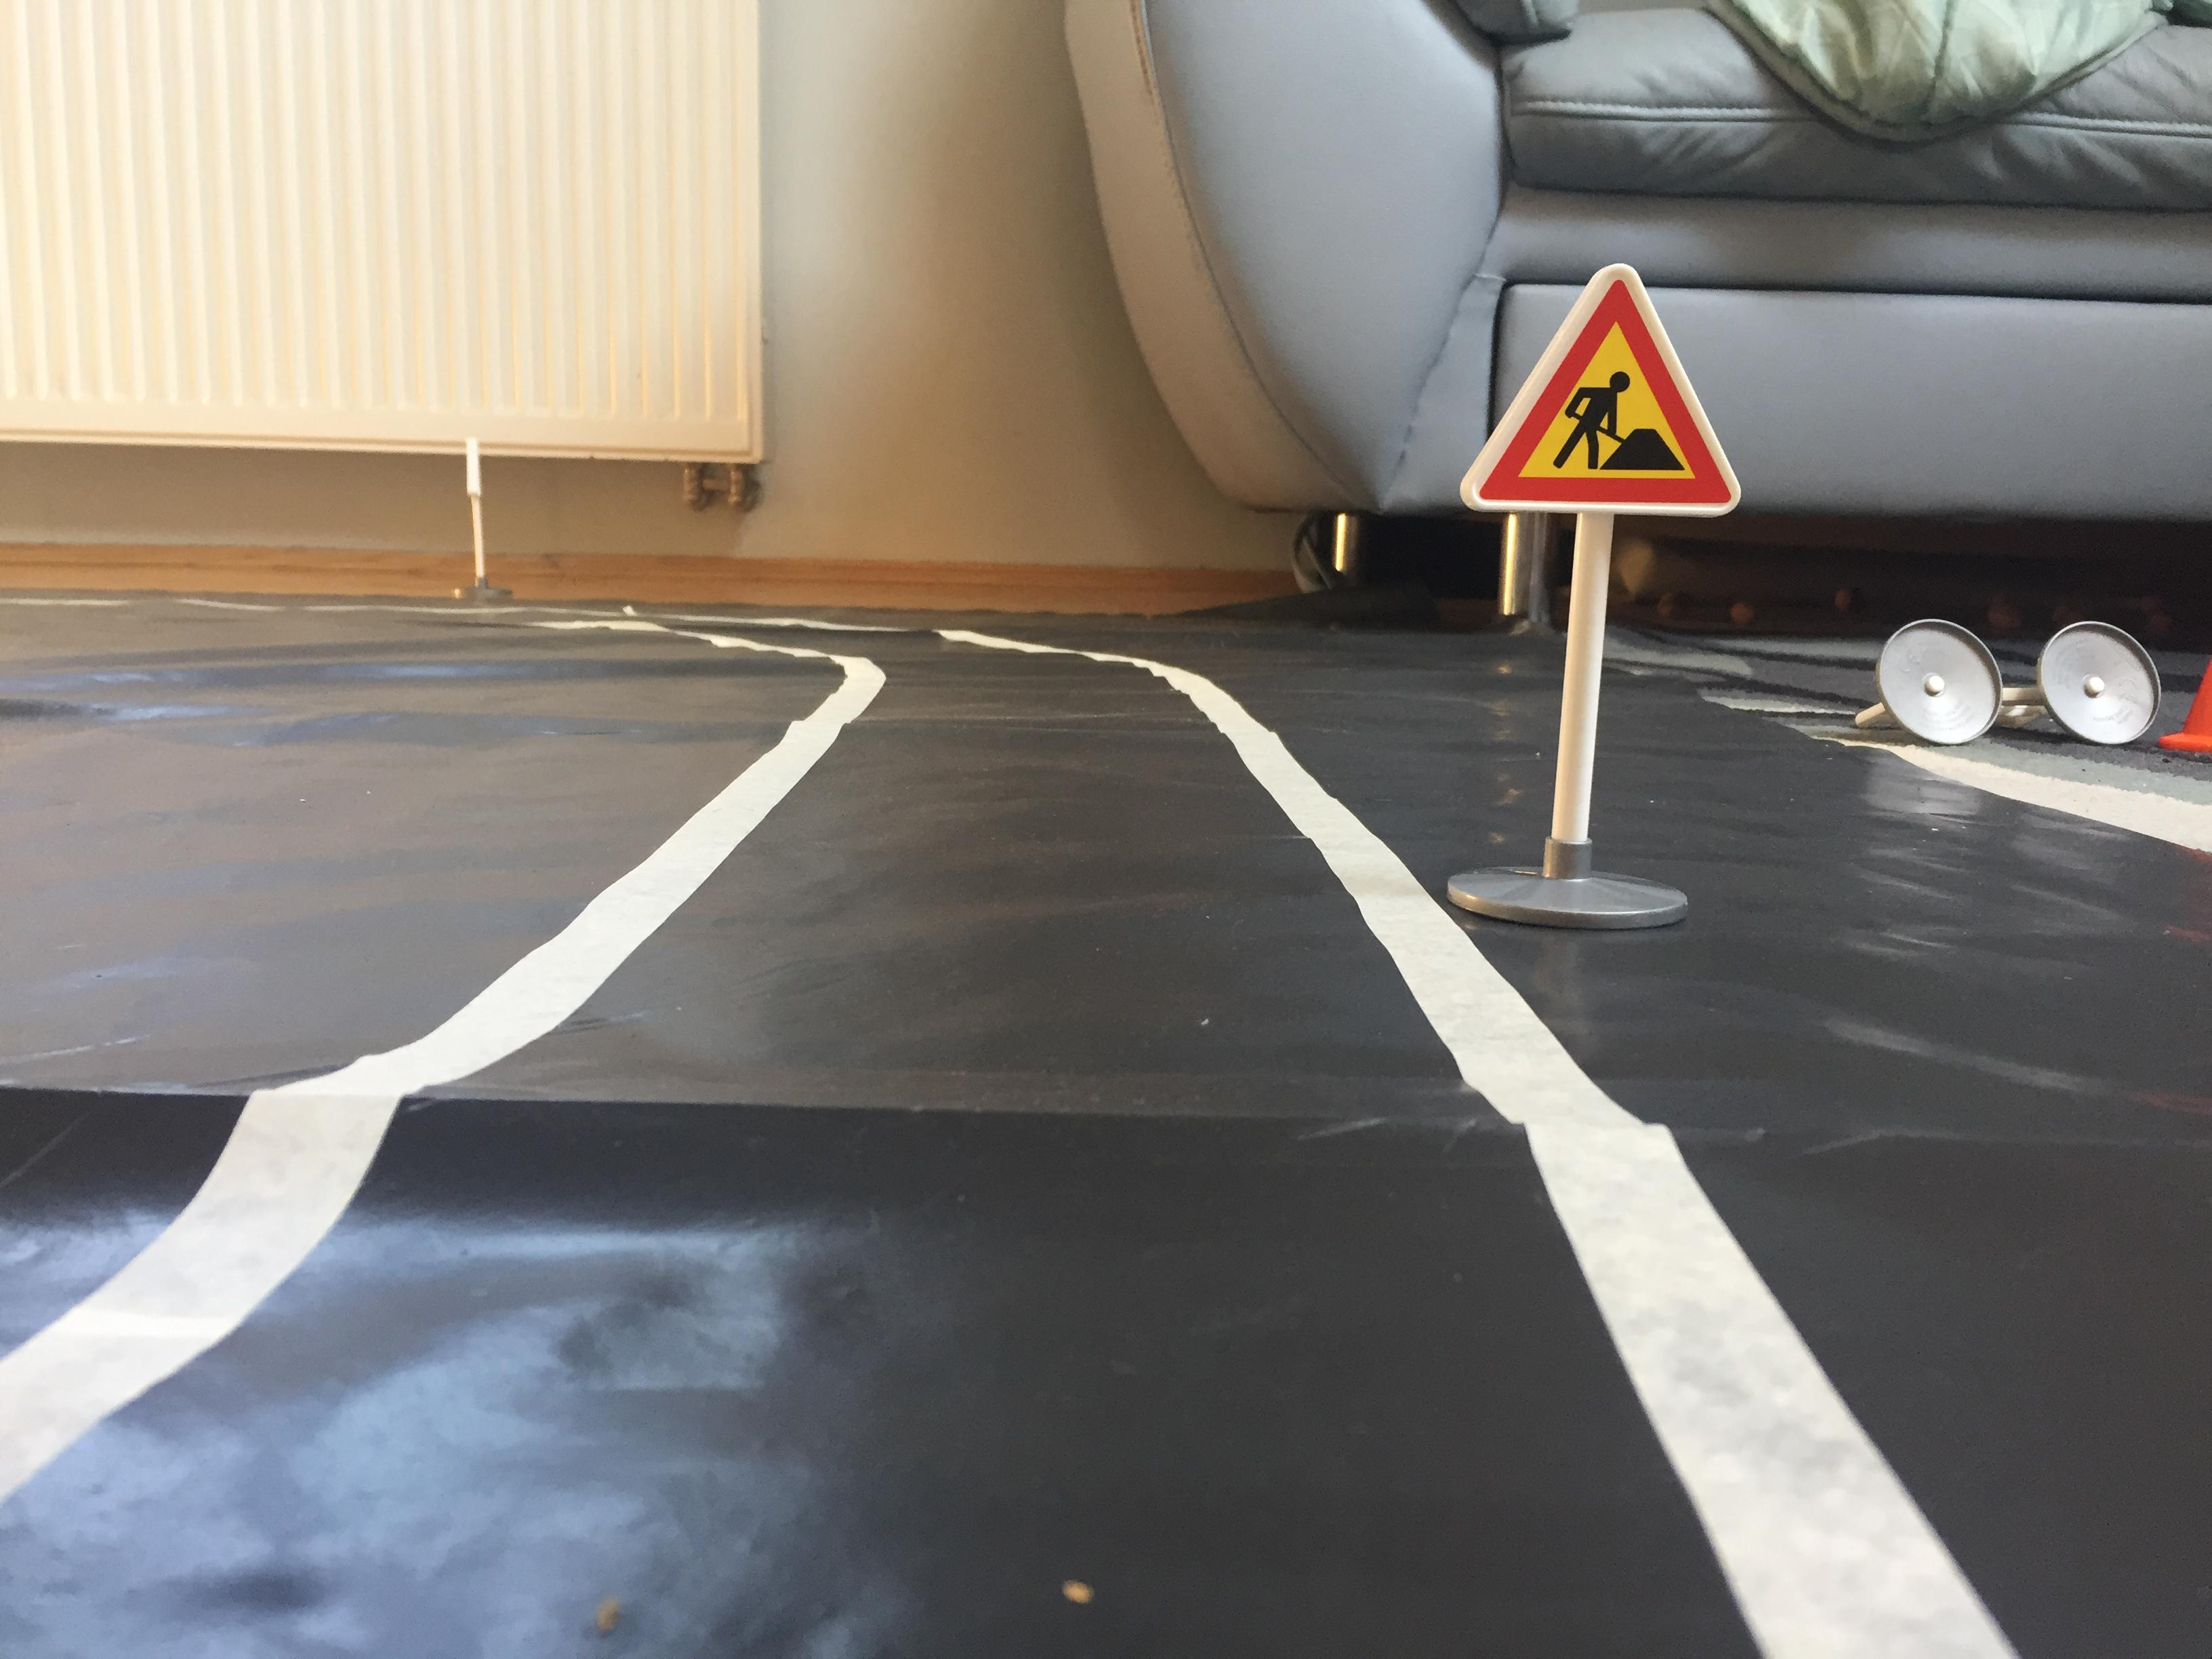work: (1454, 253, 1754, 523)
